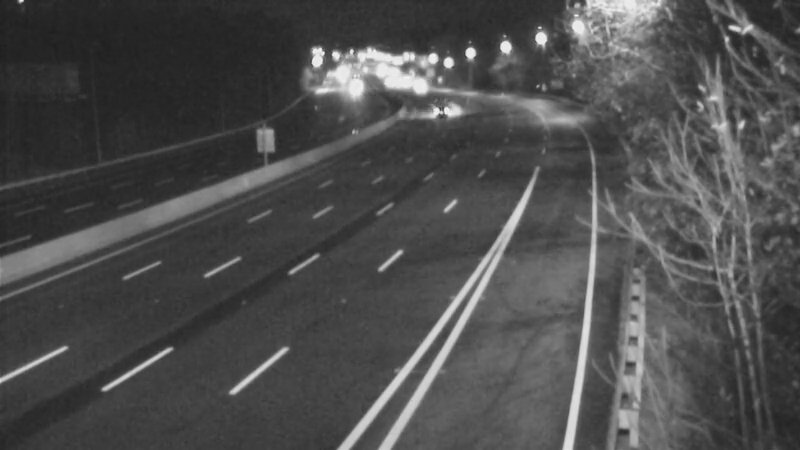vehicle: (397, 63, 447, 113), (412, 82, 462, 132), (328, 67, 378, 117)
